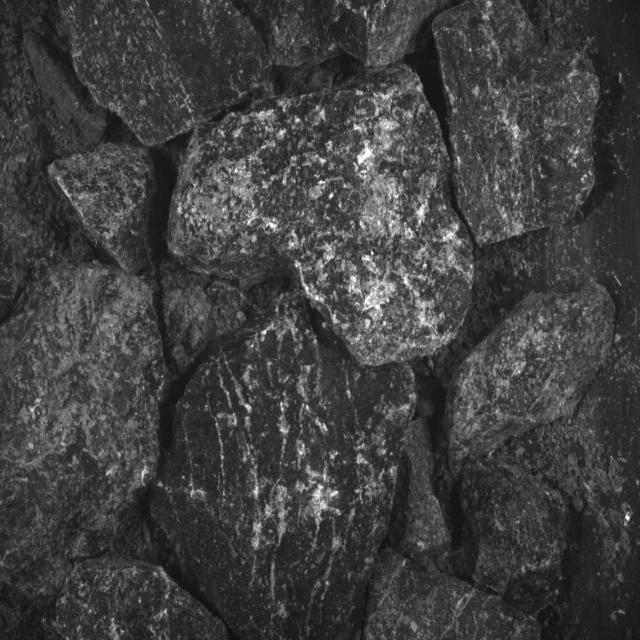Stones: (169, 66, 474, 366), (154, 295, 416, 639), (1, 264, 166, 604), (434, 3, 600, 246), (446, 284, 616, 476), (61, 1, 271, 147), (462, 460, 570, 613), (365, 550, 541, 640), (57, 558, 229, 640), (50, 145, 157, 275), (239, 1, 449, 67), (161, 262, 250, 374), (390, 419, 452, 559)
